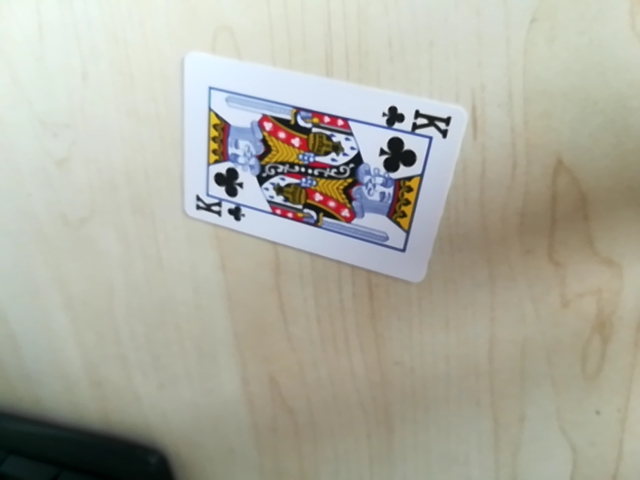mh k: (384, 103, 454, 137), (193, 194, 246, 222)
